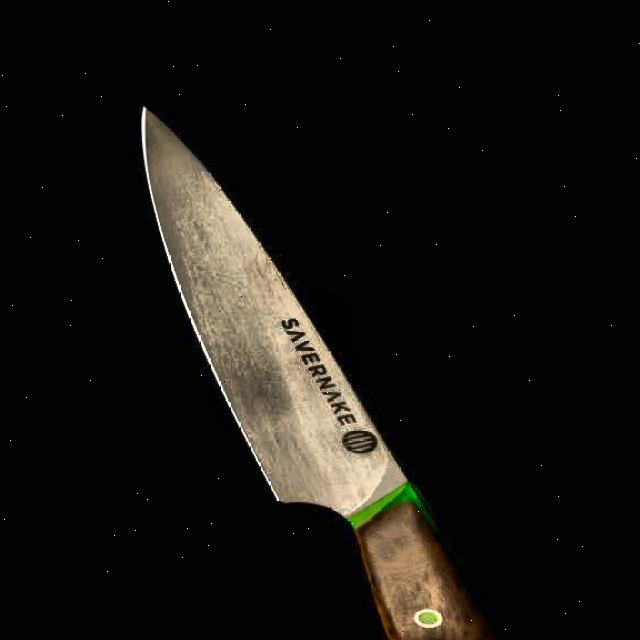knife: (140, 102, 517, 640)
